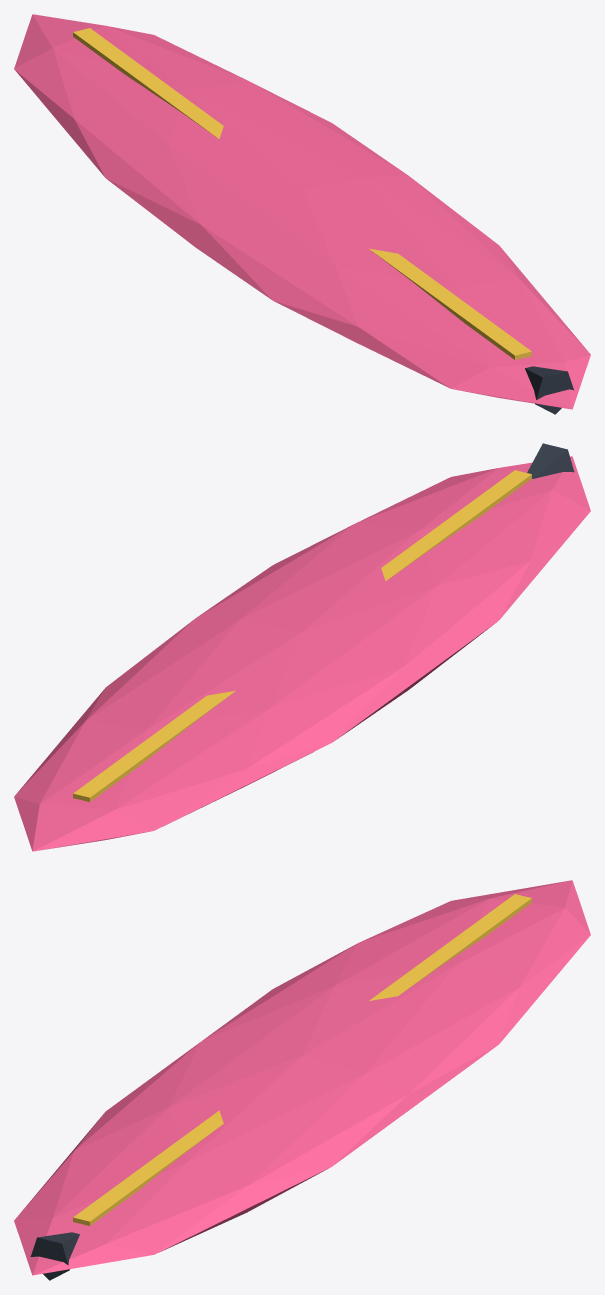
The model's file is Surfing_SurfboardPink.fbx.
3 views of the same model, one above another, from view 1: azimuth 30°, elevation 25°; view 2: azimuth 150°, elevation 25°; view 3: azimuth 330°, elevation 25° (orthographic).
Visible parts, largest first — view 1: SurfboardPink; view 2: SurfboardPink; view 3: SurfboardPink.
Boxes of the visible parts, <box> form: SurfboardPink: <box>14,14,590,414</box>; SurfboardPink: <box>14,443,590,851</box>; SurfboardPink: <box>14,880,590,1280</box>.
Bounding box in the file's own units: 0.5326 × 0.1005 × 2.2.
